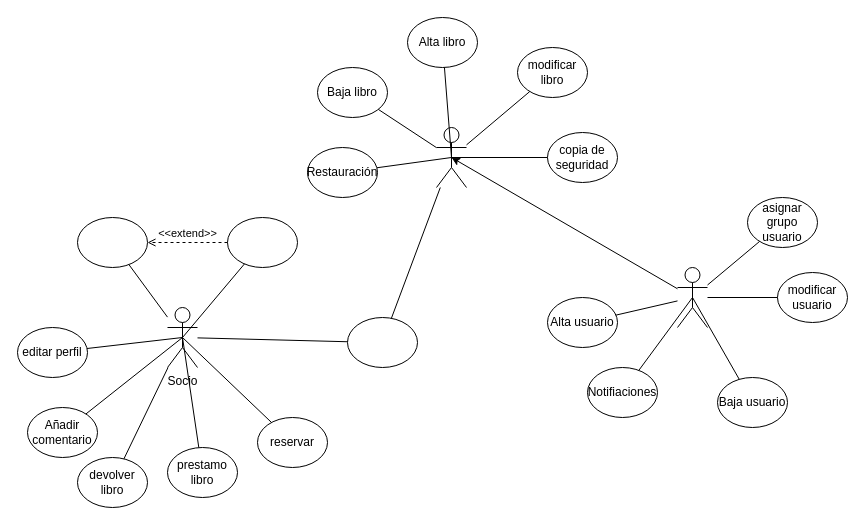
Some shapes in this 865 by 525 pixel diagram are drawn without their labels. Here are the shapes that lost their labels. From the top down, the centre of each, then its label:
At (451,157): "Gestor".
At (112,242): "iniciar sesión".
At (262,242): "registrarse".
At (692,297): "Administrador".
At (382,342): "Consultar documento".
